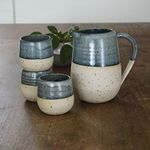cups: (35, 73, 78, 118), (17, 32, 61, 73)
